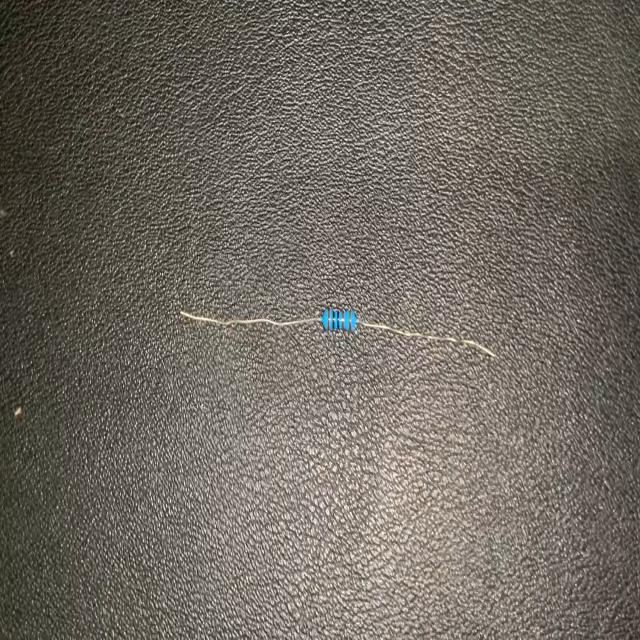resistor: (177, 298, 499, 359)
